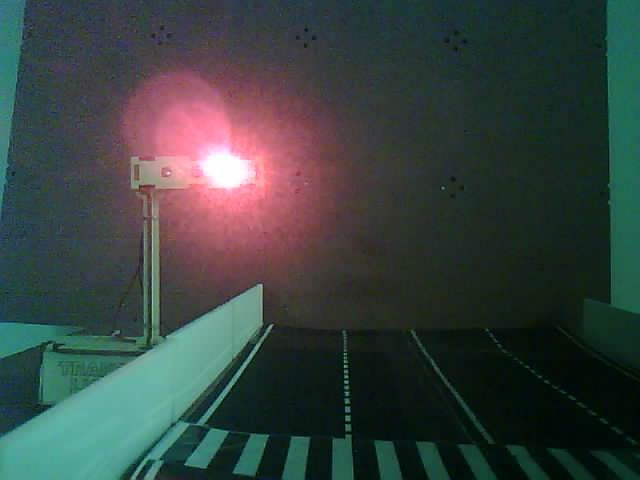crosswalk: (119, 389, 640, 480)
red: (97, 121, 291, 221)
